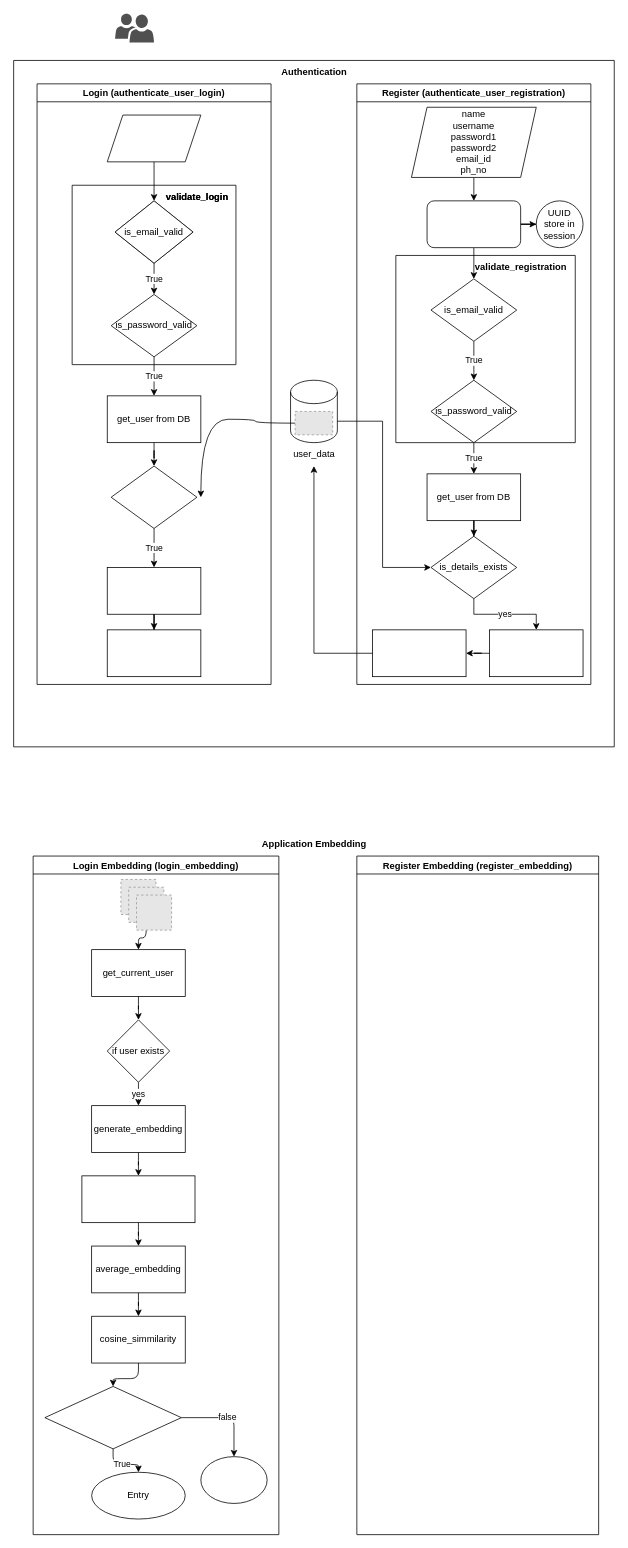
Some shapes in this 628 by 1548 pixel diagram are drawn without their labels. Grey dashed boxes stand in for pictures. Each missing label, with the centre of its shape:
create_access_token: (153,590)
email_id password: (153,138)
generate_embedding_list: (138,1199)
get_hashed_password: (536,653)
if simmilarity > simmilarity_threshold: (112,1417)
No Entry: (233,1479)
save_user: (419,653)
set_access_token: (153,653)
User Entity: (473,224)
verify_password: (153,496)
